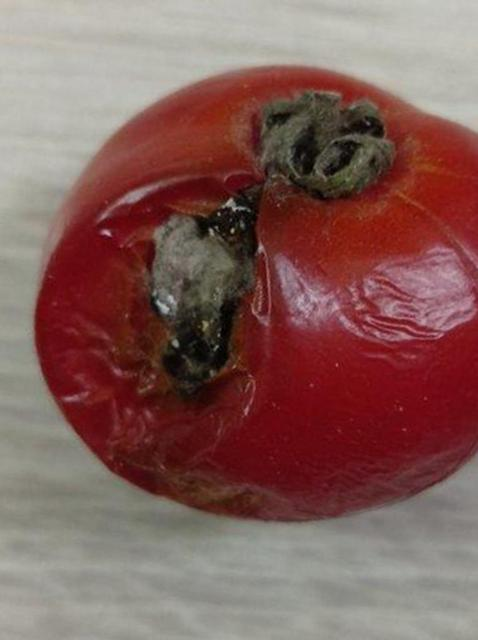defect: (29, 58, 478, 531)
